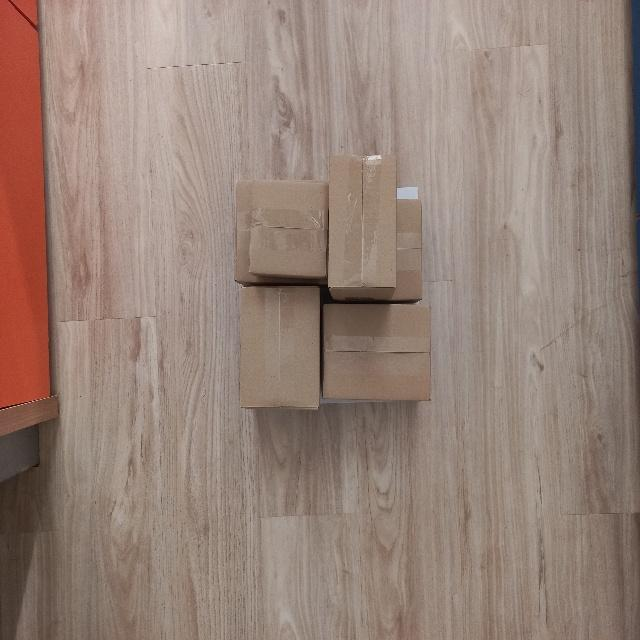box: (320, 301, 434, 406), (234, 283, 322, 415), (324, 153, 401, 302), (248, 174, 328, 282)
